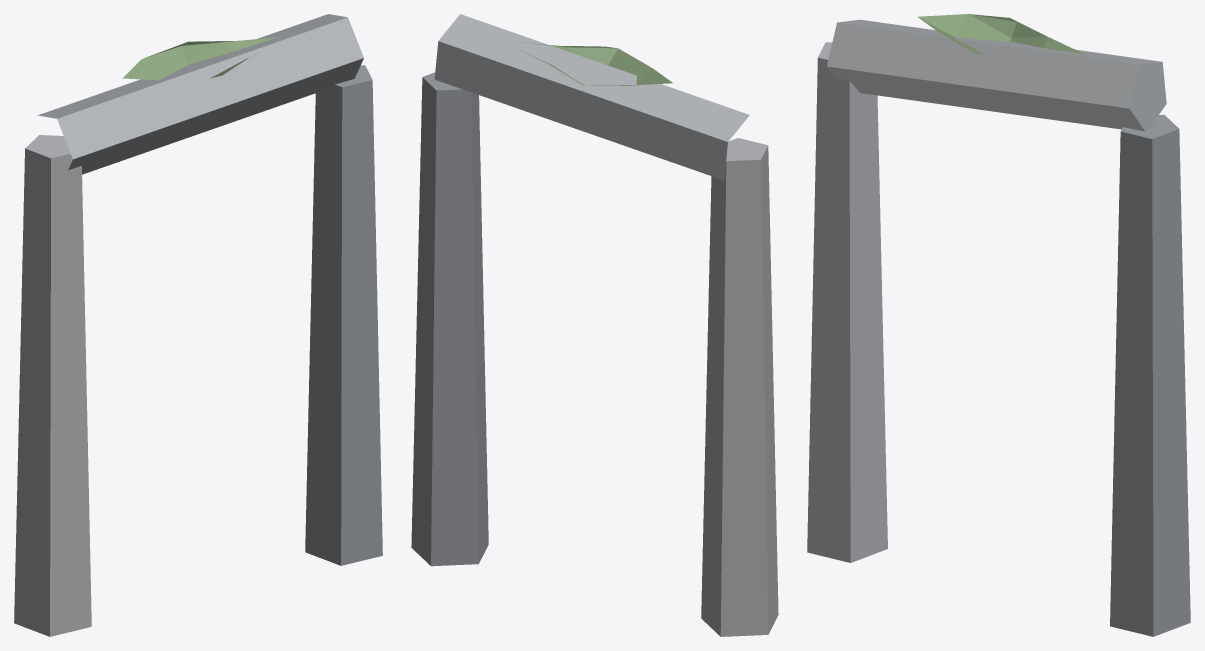
Rendered from arch_rock_v31.glb.
The picture shows the model from 3 angles, left to right: view 1: azimuth 30°, elevation 25°; view 2: azimuth 150°, elevation 25°; view 3: azimuth 330°, elevation 25°; orthographic projection. The views are drawn at different scales.
Parts seen in each view (by area): view 1: lod0; view 2: lod0; view 3: lod0.
Part boxes in pixels (x1,y1,x2,y2): lod0: (14,14,382,636); lod0: (411,14,778,636); lod0: (807,14,1190,636).
Size of what is drawn, in the model's own units: 2.22 by 3.21 by 0.4569.
